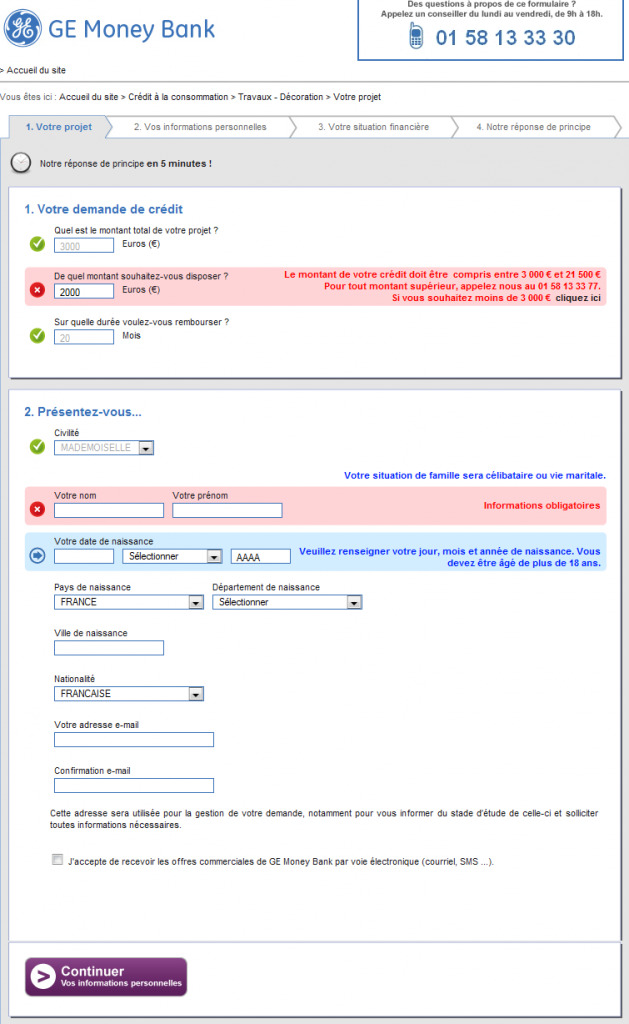error_message: (282, 269, 603, 303), (53, 269, 231, 282), (482, 498, 603, 516), (172, 490, 229, 502), (52, 489, 98, 501)
